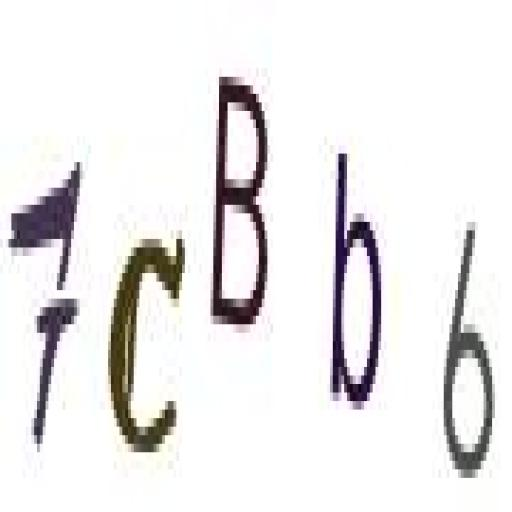6: (436, 197, 499, 492)
7: (4, 143, 92, 465)
B: (206, 66, 277, 344)
b: (321, 132, 387, 432)
c: (104, 213, 192, 483)
